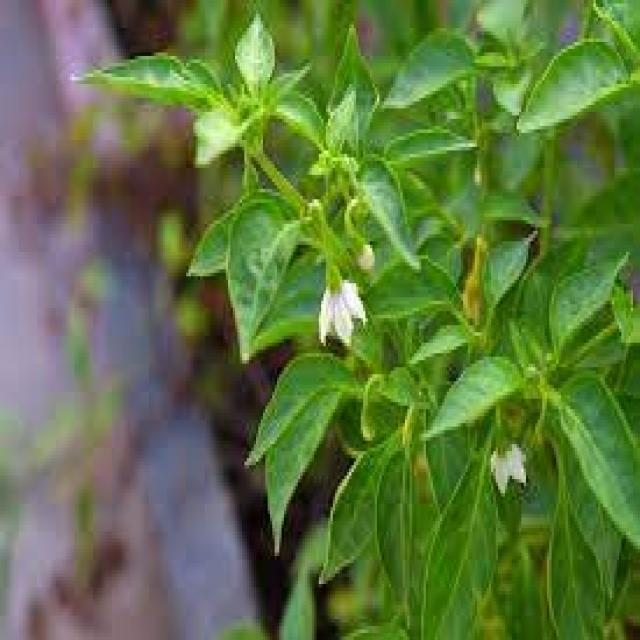sehat: (558, 360, 640, 570), (215, 196, 300, 391)
